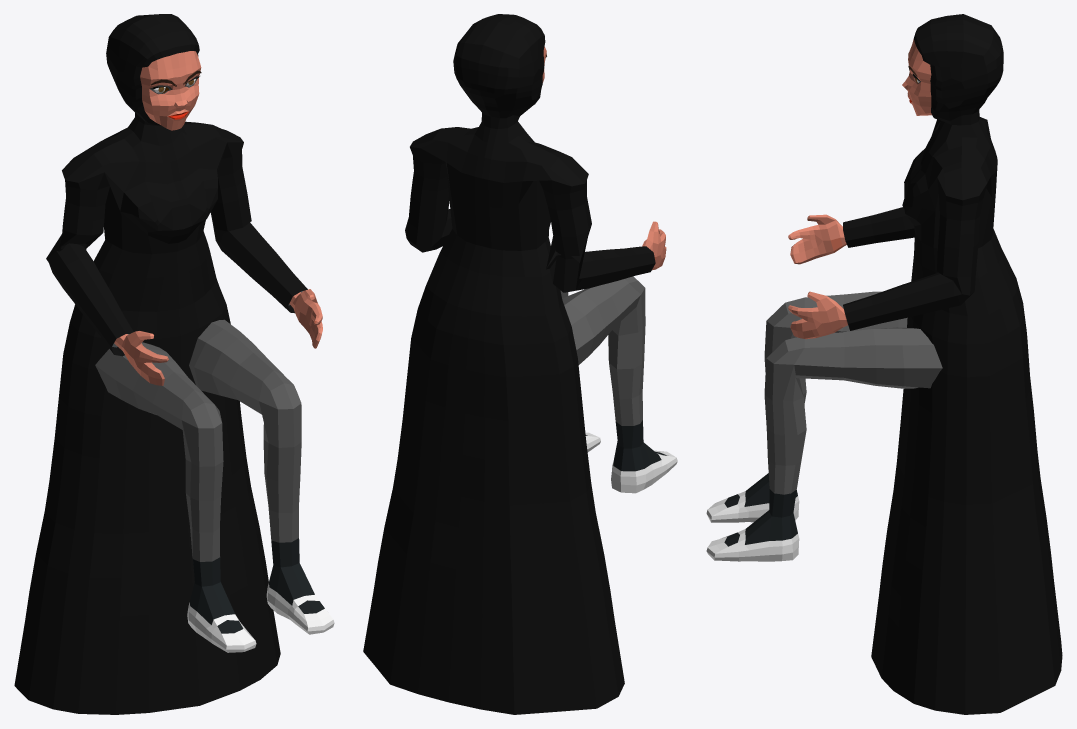
The model's file is TeacherFemale_Sit.fbx.
3 views of the same model, side by side, from view 1: azimuth 30°, elevation 25°; view 2: azimuth 150°, elevation 25°; view 3: azimuth 270°, elevation 25° (orthographic). The views are drawn at different scales.
Parts seen in each view (by area): view 1: TeacherFemale_Sit; view 2: TeacherFemale_Sit; view 3: TeacherFemale_Sit.
Boxes of the visible parts, bbox=[...] form: TeacherFemale_Sit: bbox=[14, 14, 334, 714]; TeacherFemale_Sit: bbox=[363, 14, 677, 714]; TeacherFemale_Sit: bbox=[706, 14, 1062, 714].
Bounding box in the file's own units: 0.3457 × 0.8807 × 0.446.
